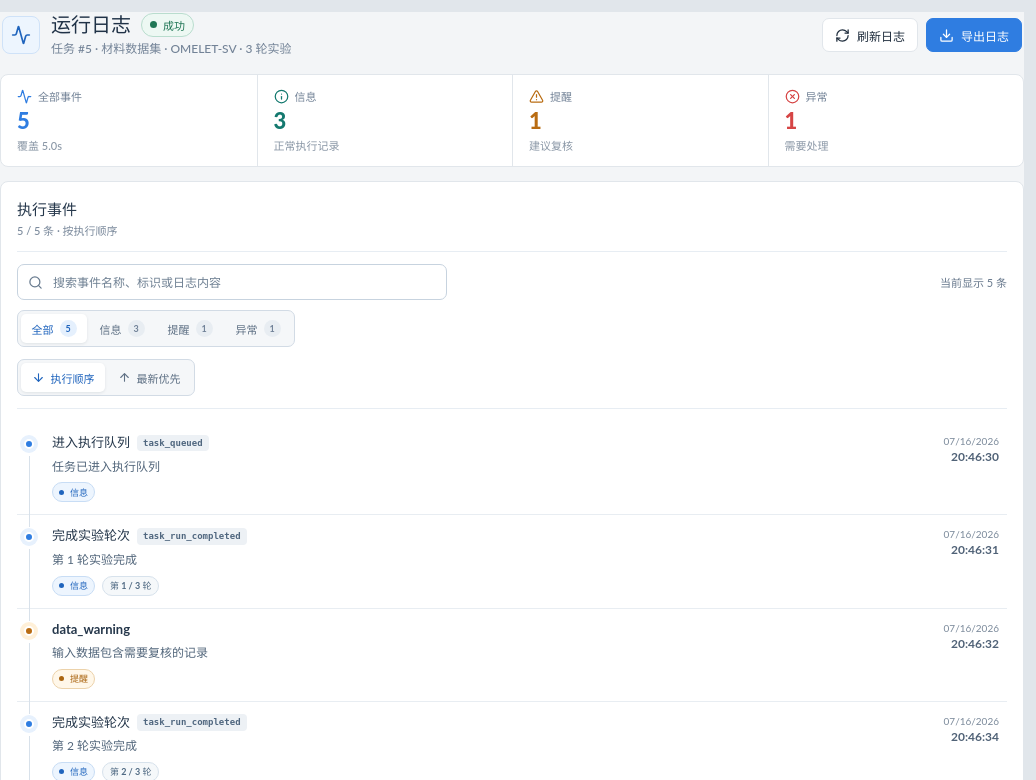
Test: TaskLogsPage › 支持级别筛选、搜索、清除搜索和重置无匹配筛选
Click the button "提醒 1" at (190, 329), box [157,314,223,343]
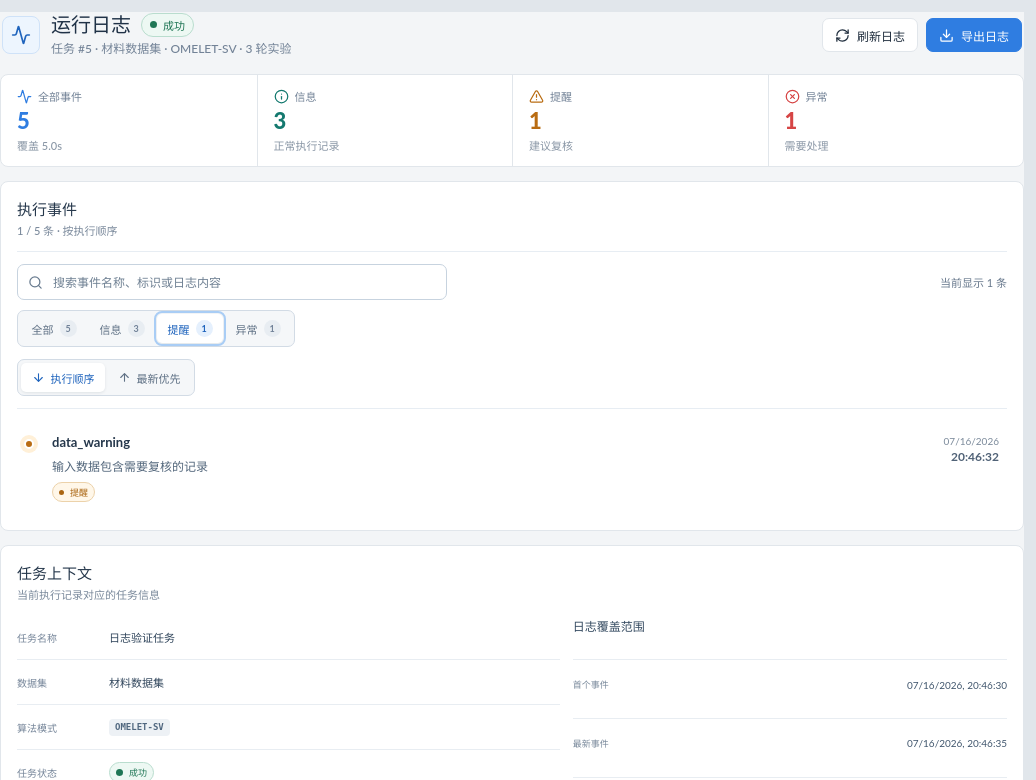
Expected: the text "输入数据包含需要复核的记录" is shown, [52,459,208,474]
Expected: the number of list items is 1, [17,422,1007,514]
Click the button "全部 5" at (54, 329), box [21,314,87,343]
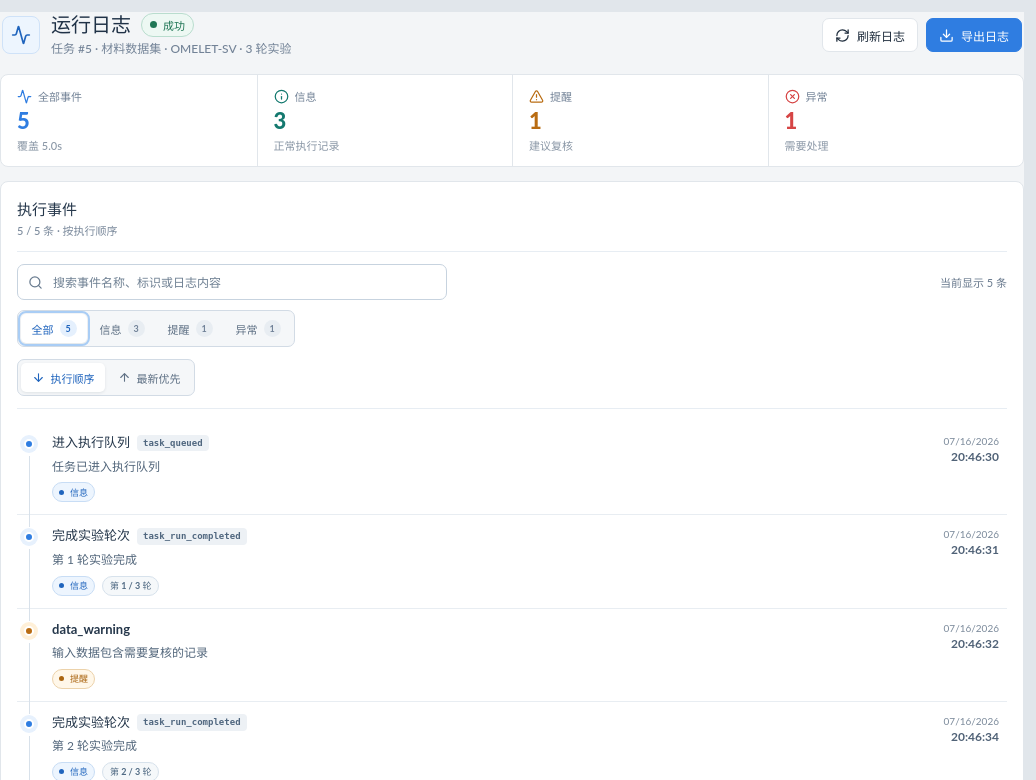
Type "第 2 轮" into the field named "搜索任务日志" at (248, 282), box [51,274,446,291]
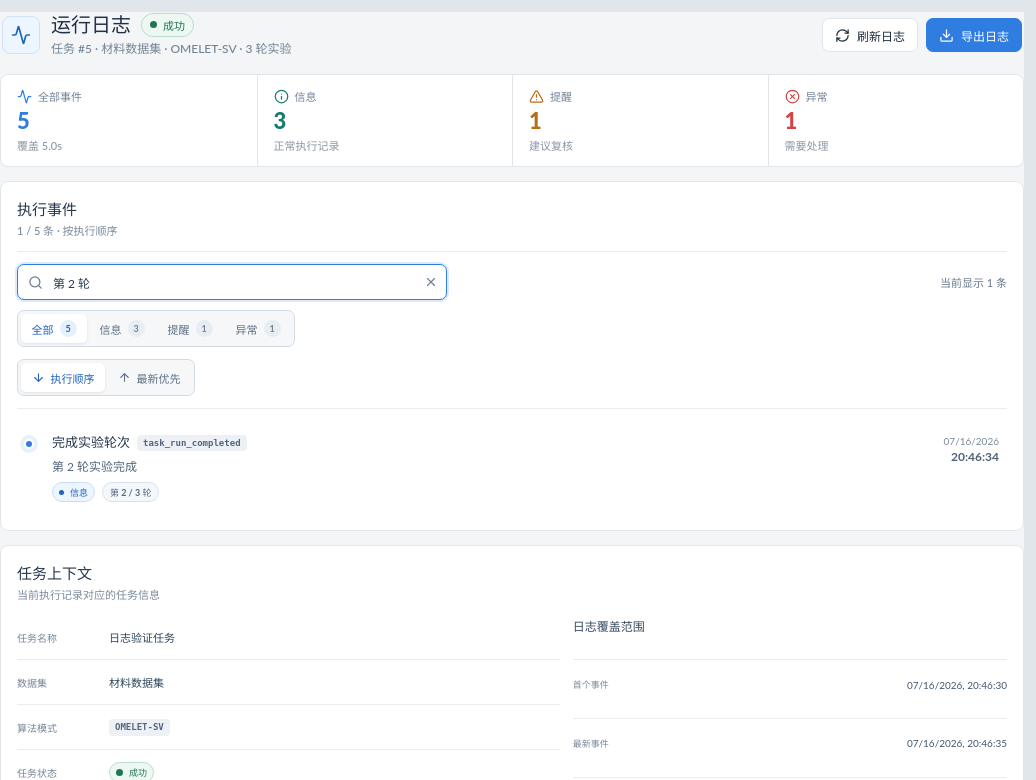
Expected: the text "第 2 轮实验完成" is shown, [52,459,137,474]
Expected: the number of list items is 1, [17,422,1007,514]
Click the button named "清除日志搜索" at (430, 282), box [415,267,446,298]
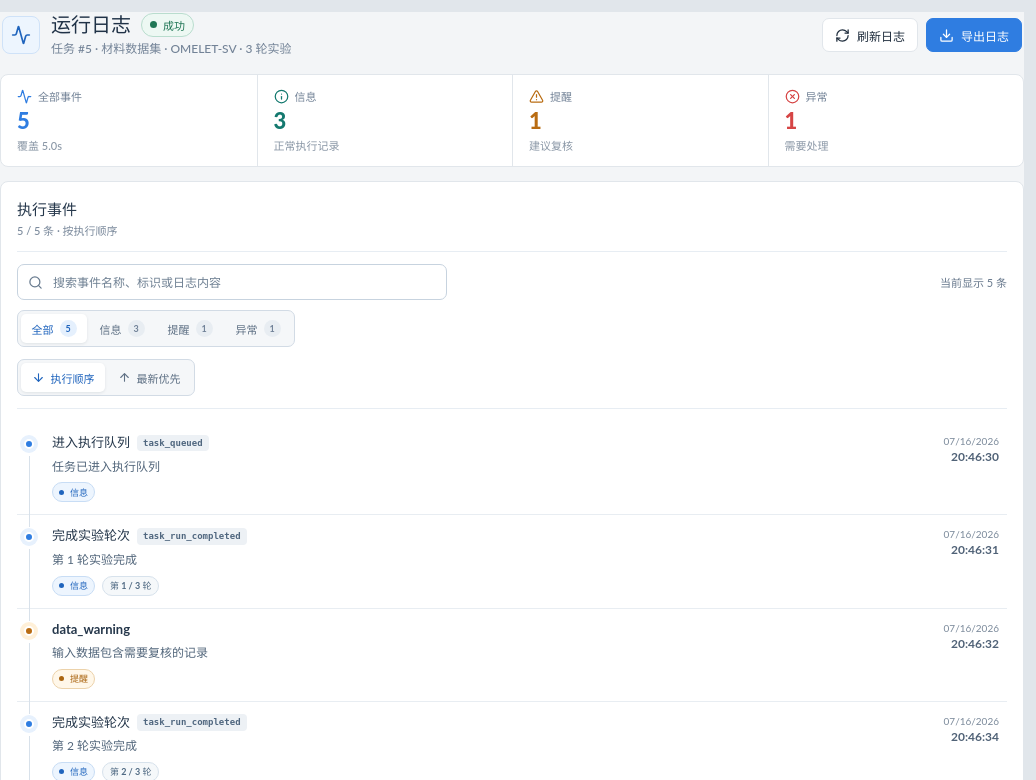
Expected: the number of list items is 5
Type "不存在的事件" into the field named "搜索任务日志" at (248, 282), box [51,274,446,291]
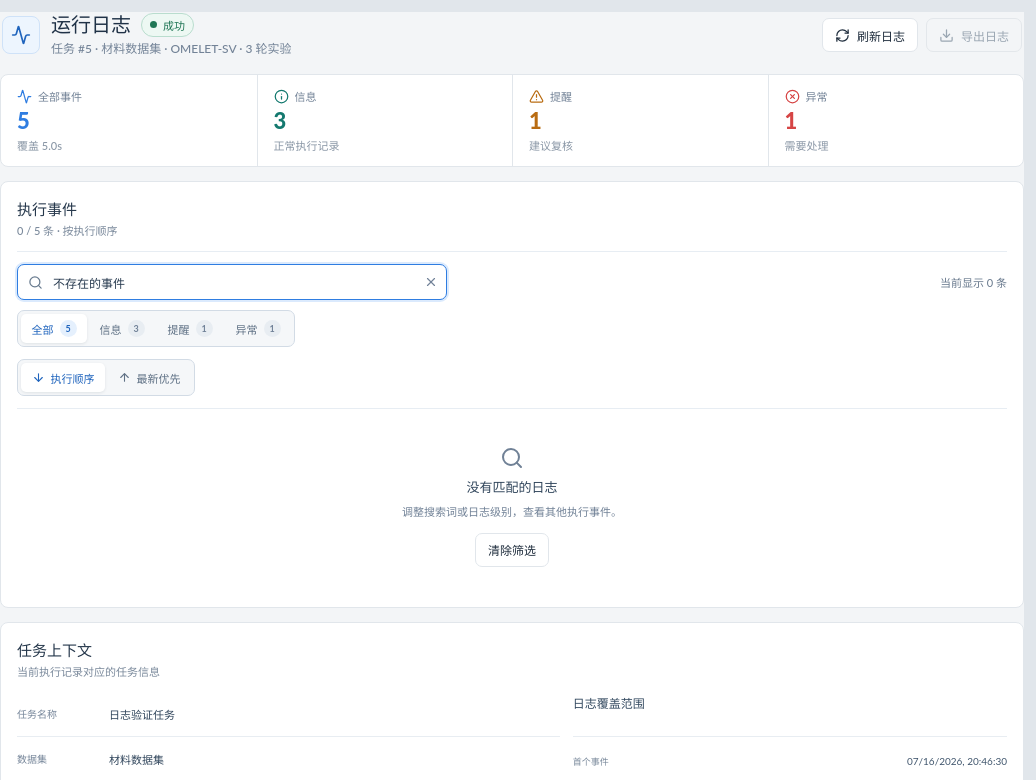
Expected: the text "没有匹配的日志" is shown, [466,477,558,496]
Click the button "清除筛选" at (512, 550), box [475,533,549,567]
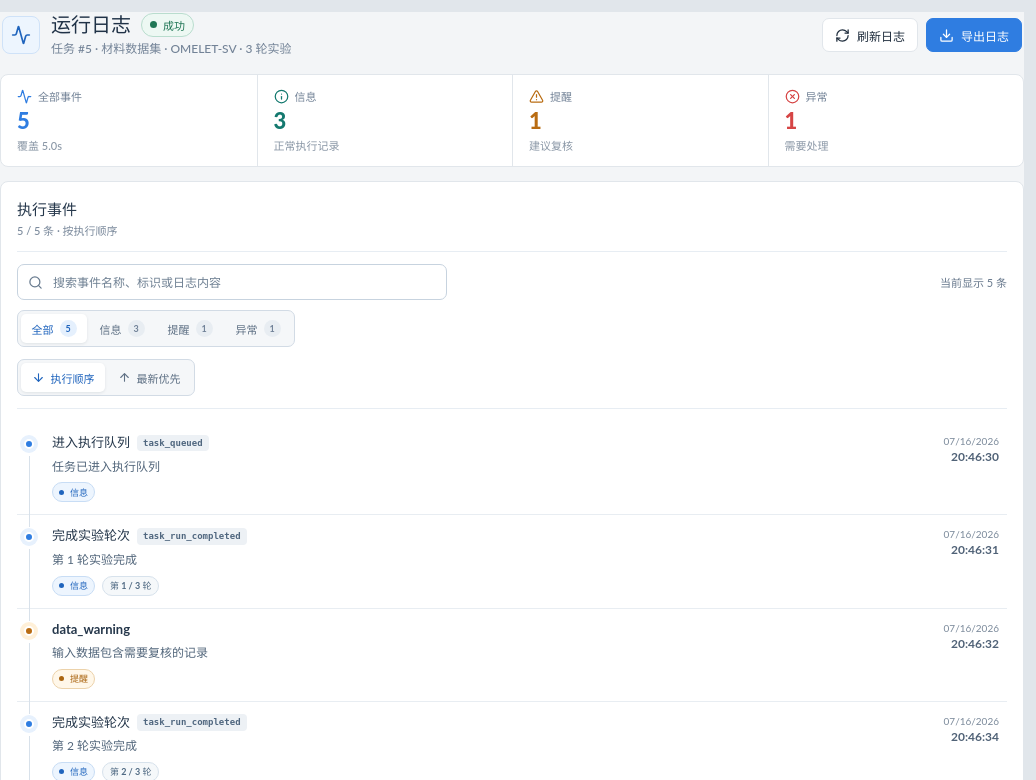
Expected: the number of list items is 5
